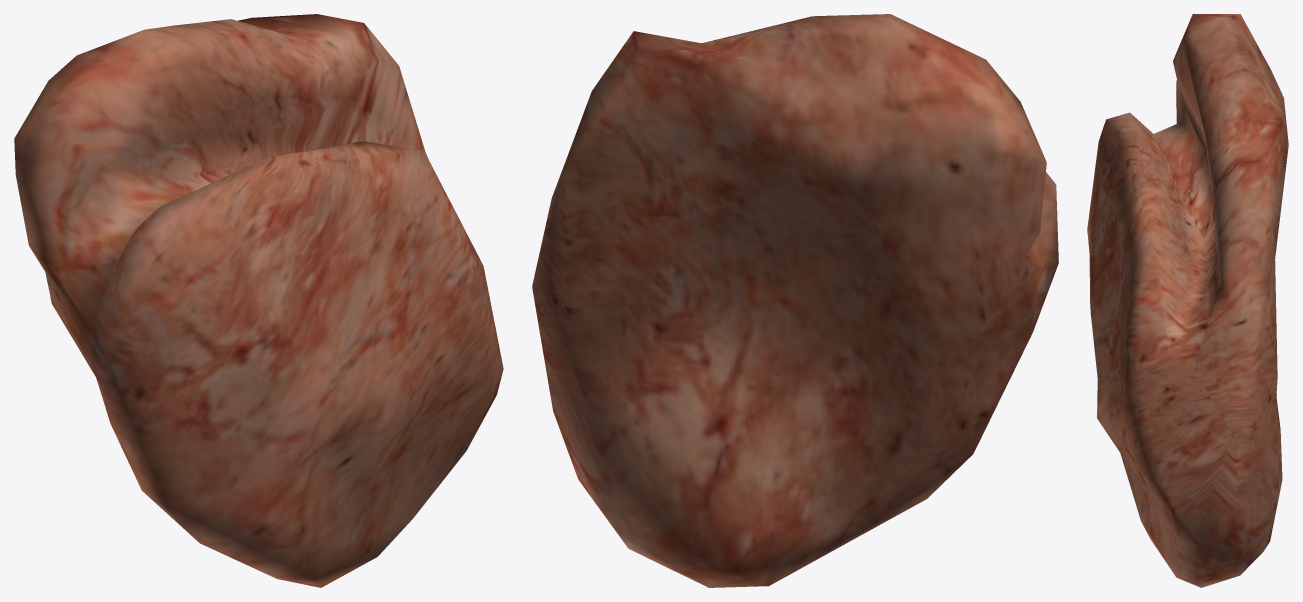
File: Gutteral_Pouch.glb
3 renders of one model, left to right at view 1: azimuth 30°, elevation 25°; view 2: azimuth 150°, elevation 25°; view 3: azimuth 270°, elevation 25°, orthographic. The views are drawn at different scales.
Visible parts, largest first — view 1: Gutteral_Pouch1_1; view 2: Gutteral_Pouch1_1; view 3: Gutteral_Pouch1_1.
Part boxes in pixels (x1,y1,x2,y2): Gutteral_Pouch1_1: (14, 14, 503, 587); Gutteral_Pouch1_1: (532, 14, 1058, 587); Gutteral_Pouch1_1: (1087, 14, 1288, 587).
Size of the model in its own units: 0.098 by 0.1154 by 0.0433.
1 material, 1 textured.
